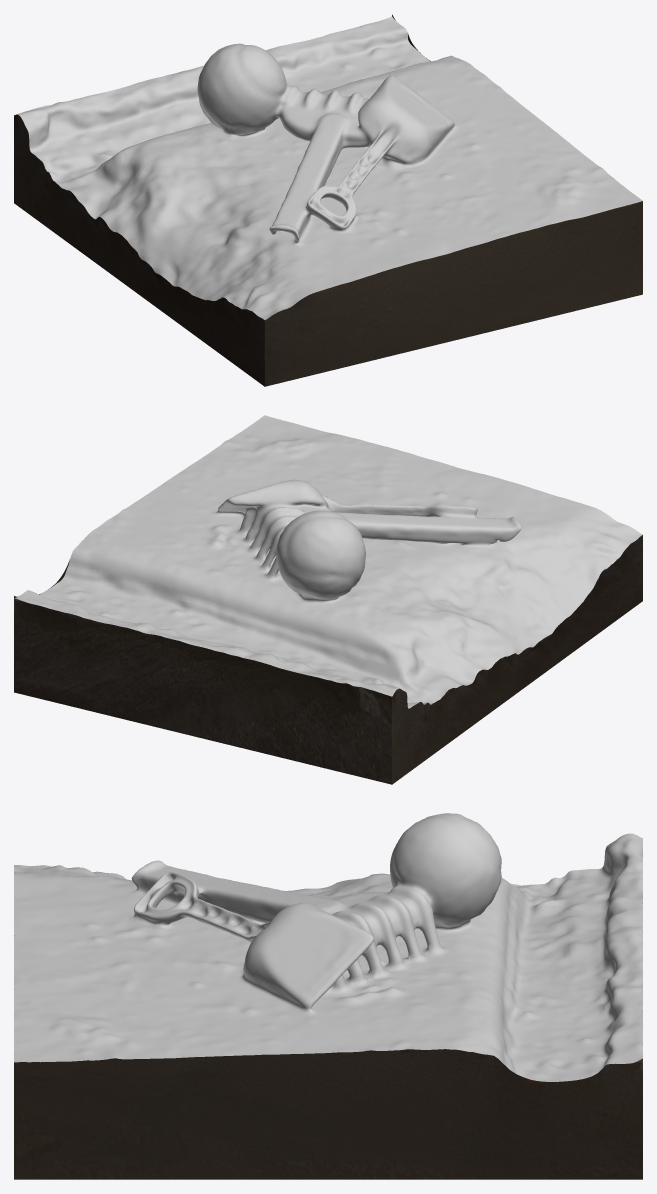
Rendered from 20221220_beach_toys_final.fbx.
3 renders of one model, top to bottom at view 1: azimuth 30°, elevation 25°; view 2: azimuth 150°, elevation 25°; view 3: azimuth 270°, elevation 25°, orthographic. The views are drawn at different scales.
Parts seen in each view (by area): view 1: beach_toys_top, beach_toys_btm; view 2: beach_toys_top, beach_toys_btm; view 3: beach_toys_top, beach_toys_btm.
Boxes of the visible parts, left/top/right/bottom form: beach_toys_top: left=14, top=16, right=642, bottom=319; beach_toys_btm: left=14, top=14, right=642, bottom=386; beach_toys_top: left=15, top=415, right=642, bottom=708; beach_toys_btm: left=14, top=535, right=642, bottom=784; beach_toys_top: left=14, top=813, right=642, bottom=1081; beach_toys_btm: left=14, top=903, right=642, bottom=1179.
Bounding box in the file's own units: 443 × 197 × 509.
